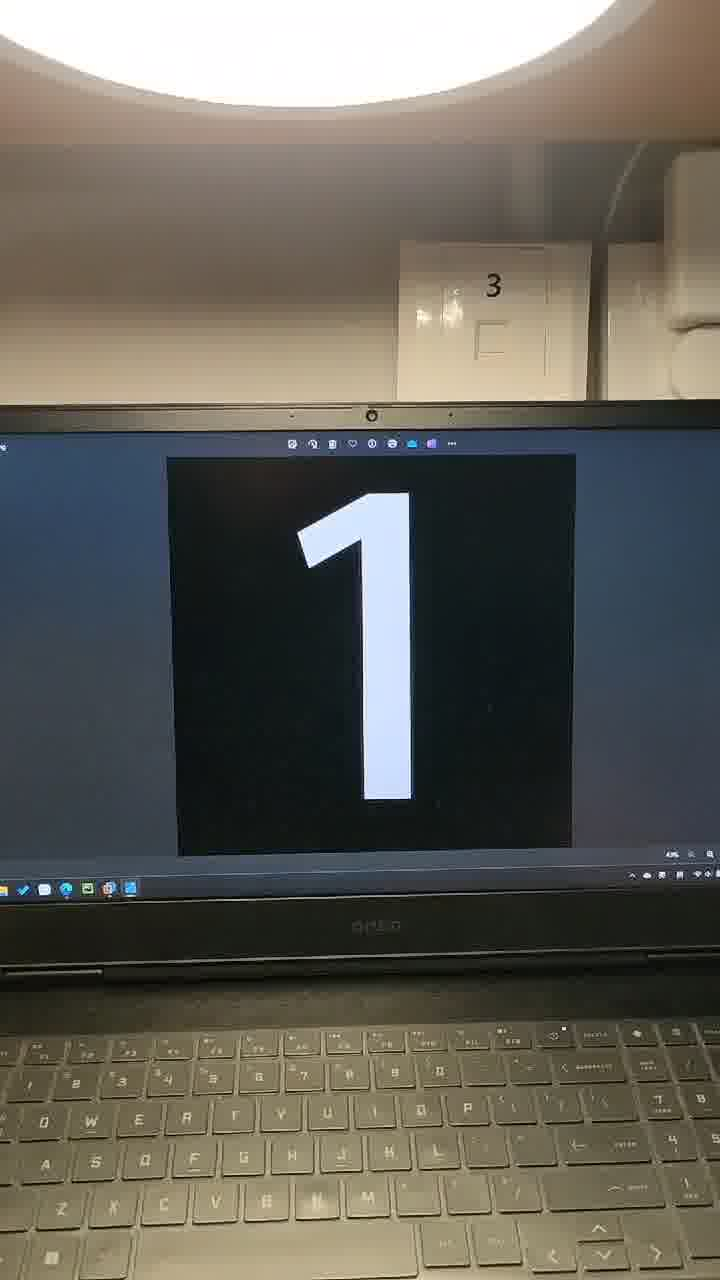one: (234, 452, 502, 854)
